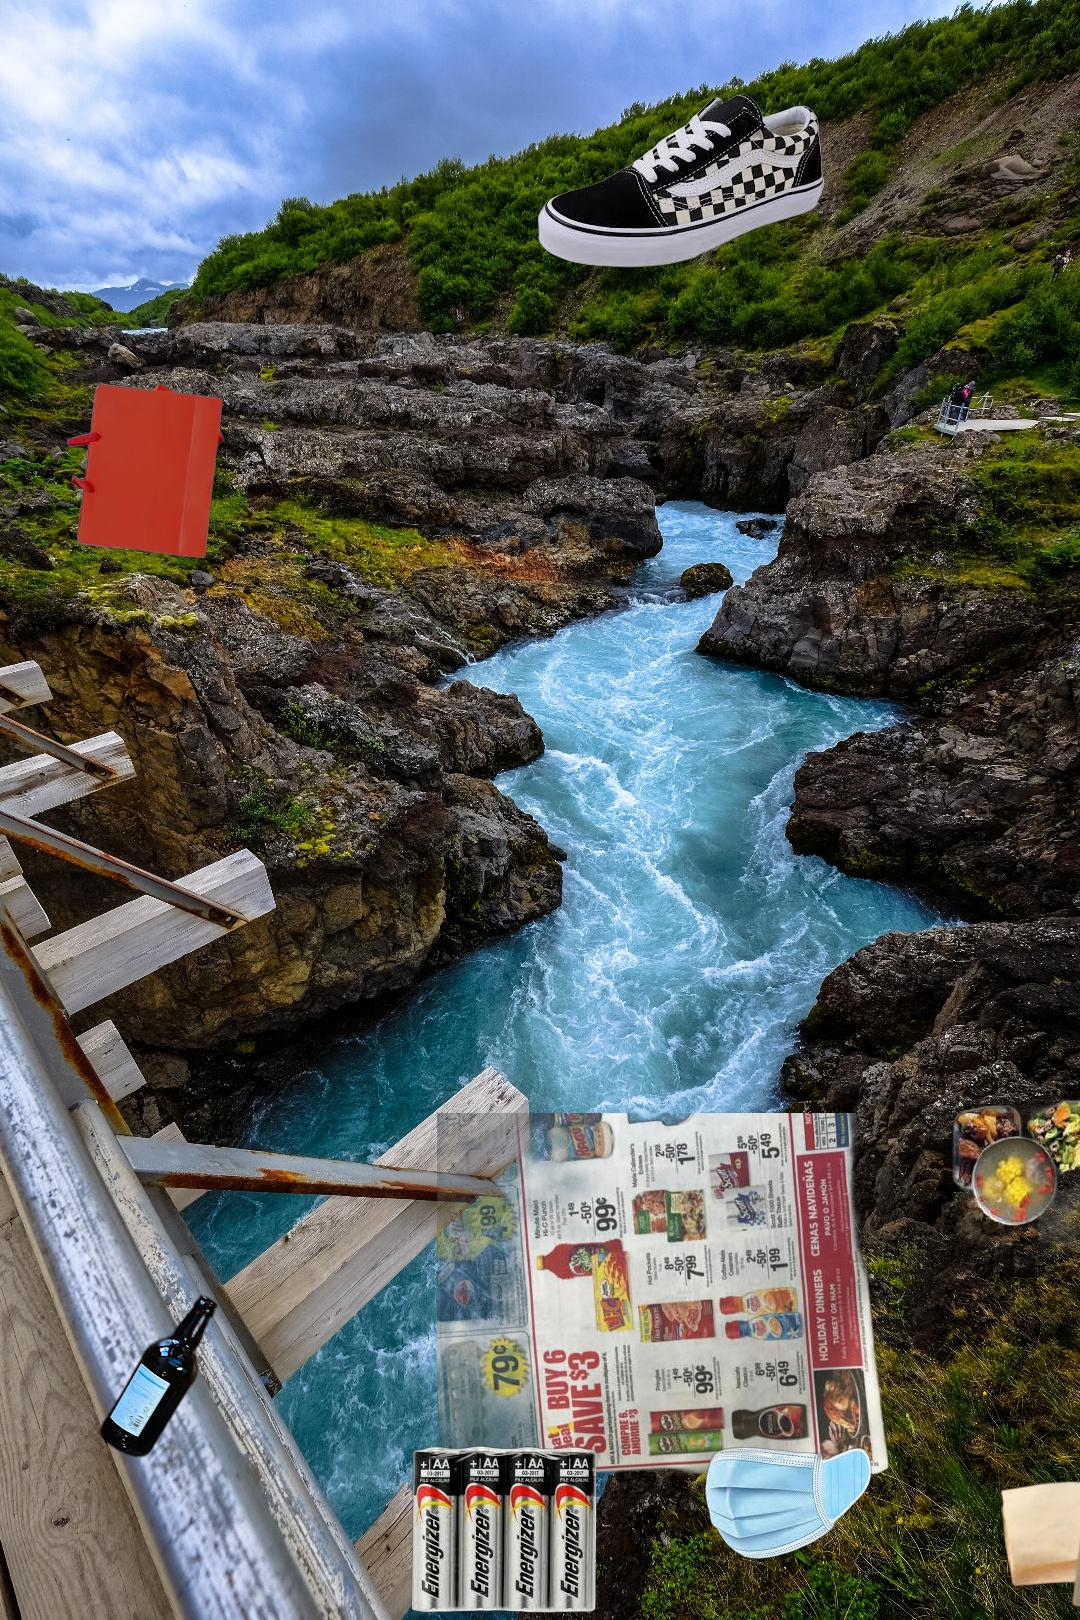battery: (409, 1443, 603, 1615)
biological: (945, 1092, 1080, 1264)
glass: (96, 1289, 222, 1463)
paper: (438, 1113, 893, 1497)
paper-bag: (65, 380, 225, 560), (998, 1475, 1080, 1620)
shoes: (538, 93, 824, 268)
trash: (702, 1364, 922, 1587)
